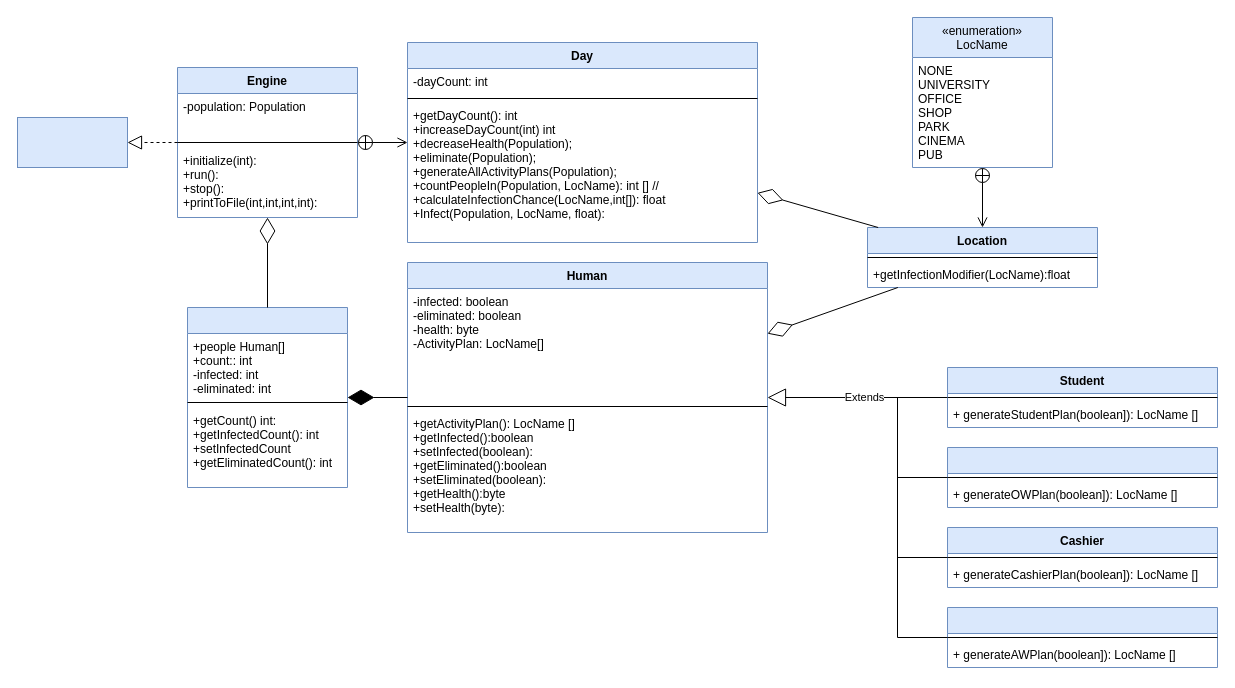
Image size: 1235x688. Some labels were removed from this diagram. Here are the shapes that lost their labels. From the top down, the box of each, then its label:
(16, 116, 128, 168): «interface» Runable
(186, 306, 348, 488): Population
(946, 446, 1218, 508): OfficeWorker
(946, 606, 1218, 668): AcademicWorker
